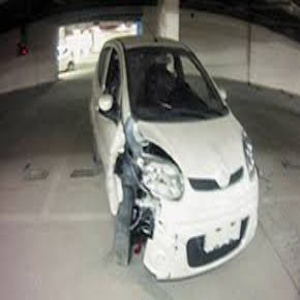bumper: (139, 206, 177, 282)
